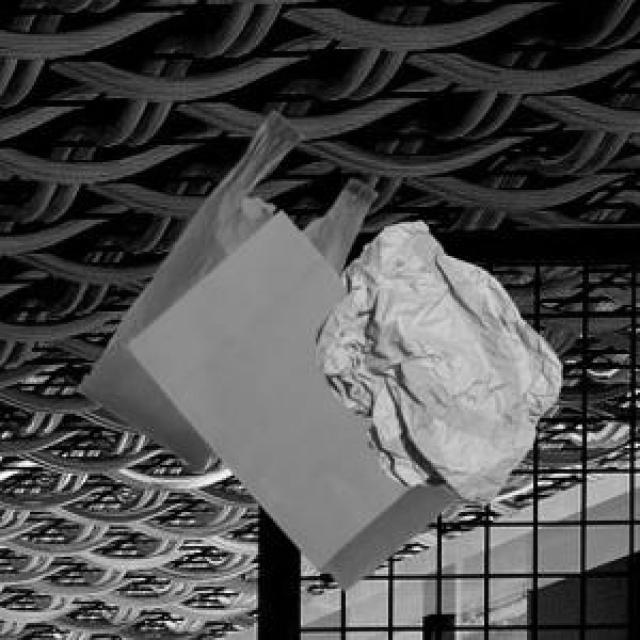paper: (124, 207, 452, 587), (314, 218, 557, 501)
